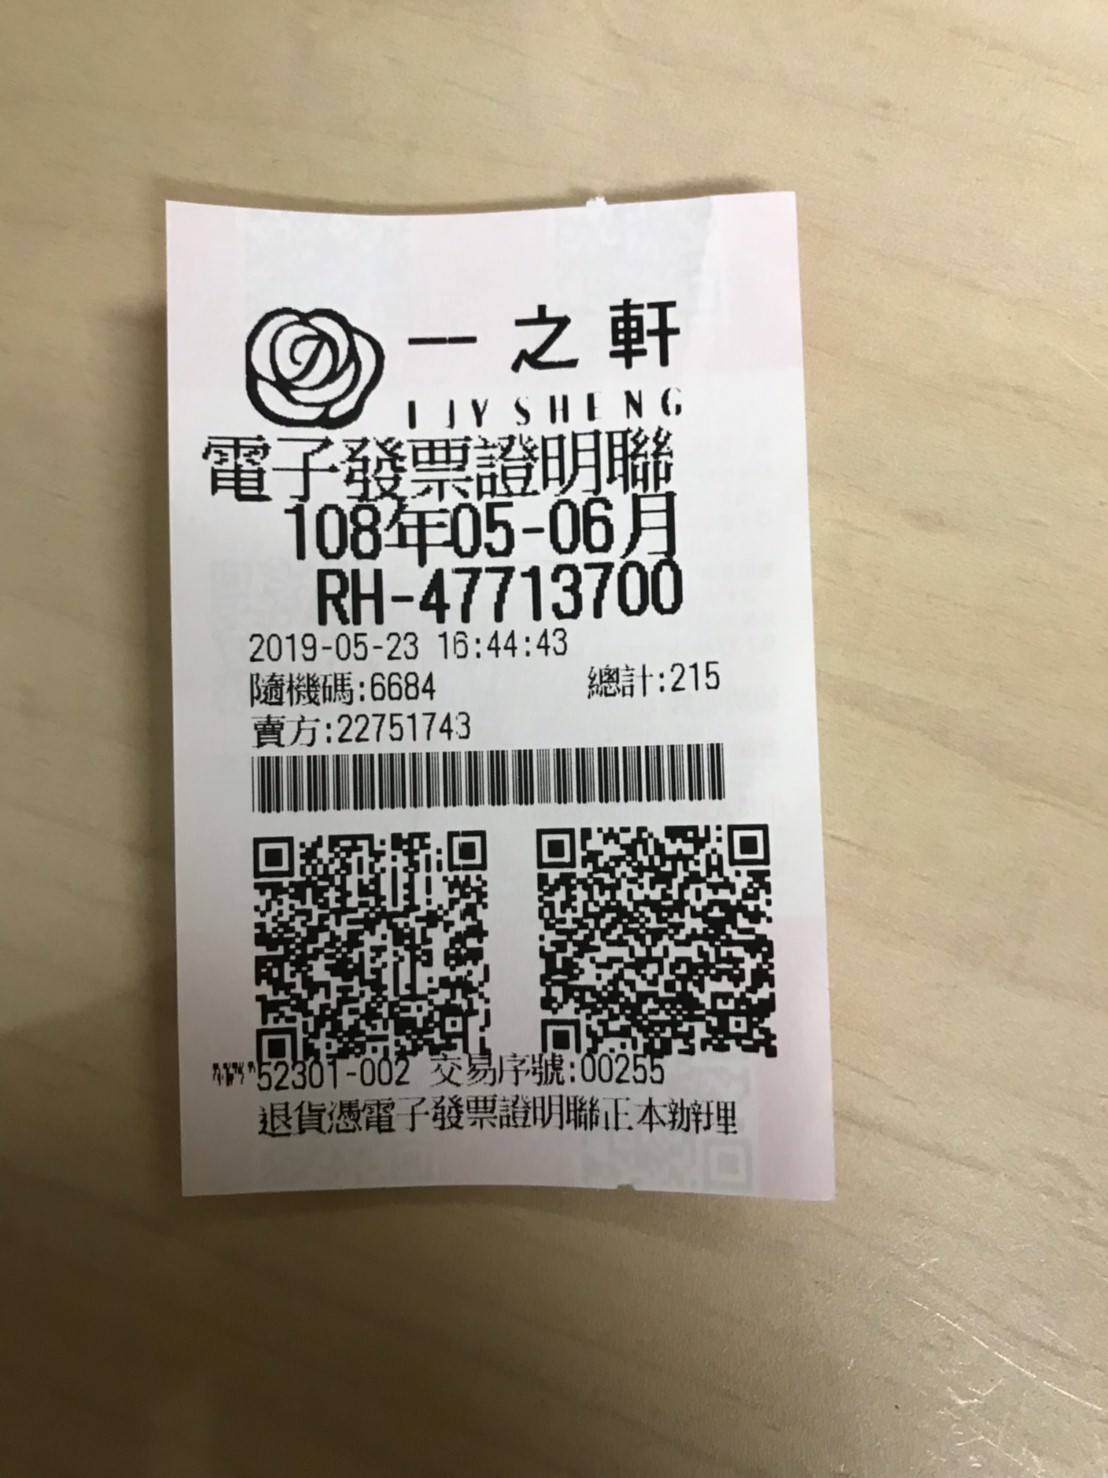Date_New: (283, 492, 684, 562)
Number_New: (417, 556, 684, 625)
